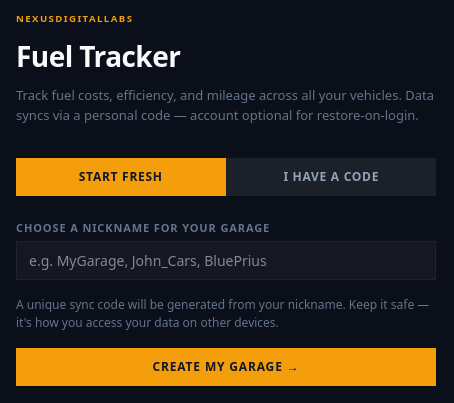
FuelTrackerClient — "I Have a Code" flow › shows "Could not connect" error when fetch throws a network error
Step 1. Click the button "I Have a Code" → click(331, 177), box [226,158,436,196]
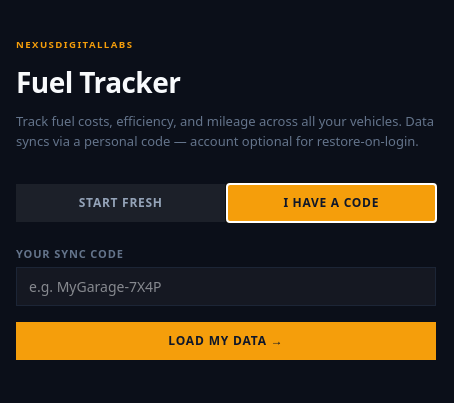
Step 2. Type "test-abcd" into the field with placeholder "e.g. MyGarage-7X4P" → (226, 286), box [16,267,436,306]
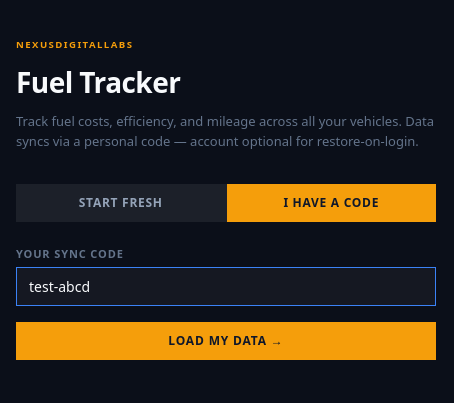
Step 3. Click the button "Load My Data →" → click(226, 341), box [16,322,436,360]
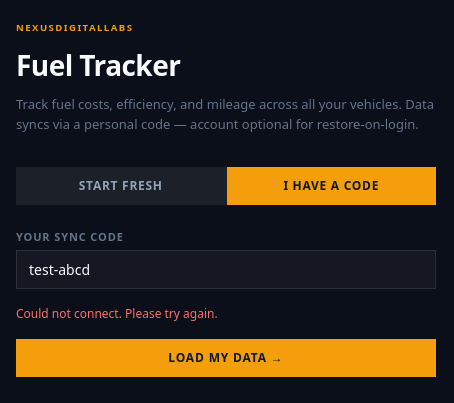
Expected: the text "Could not connect. Please try again." is shown, [16,305,218,322]
